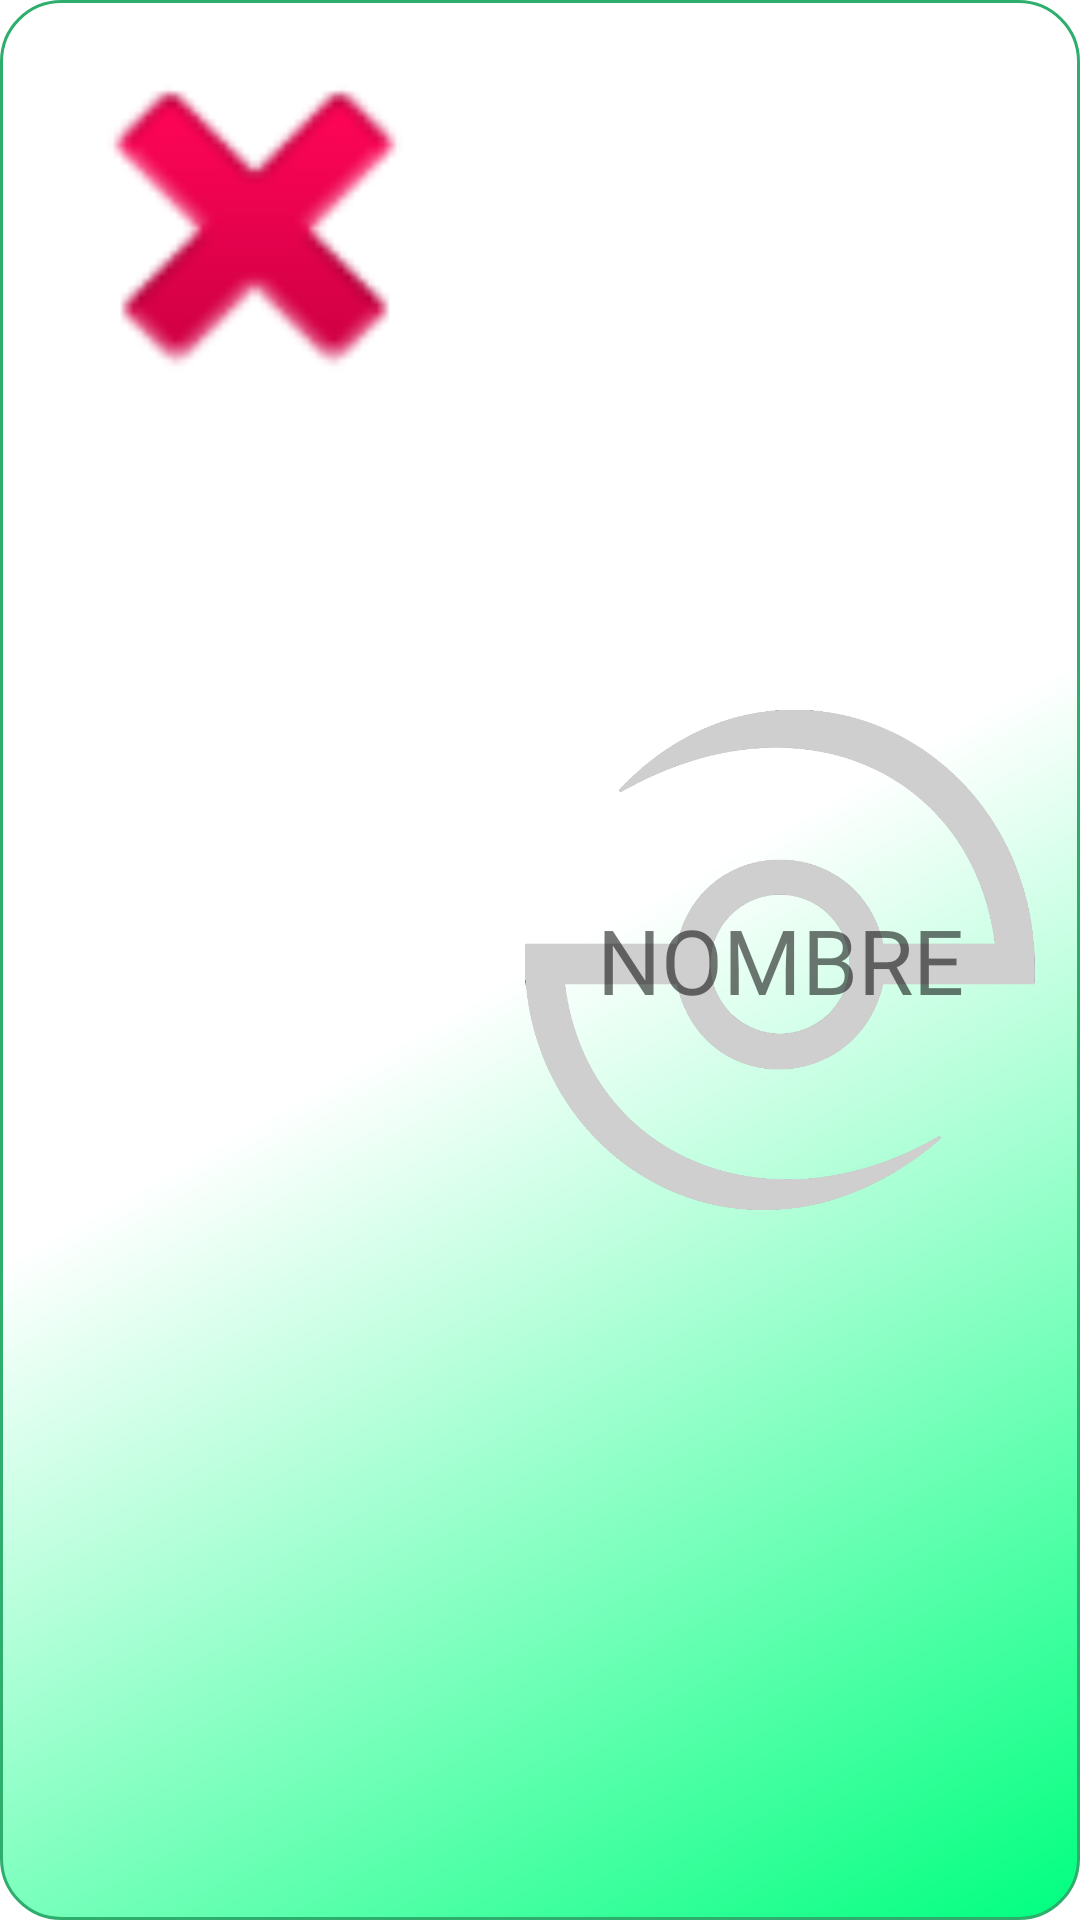

Point at icon controls on the screen. Image size 1080*1920, points as (x=x, y=y).
delete: (x=255, y=227)
